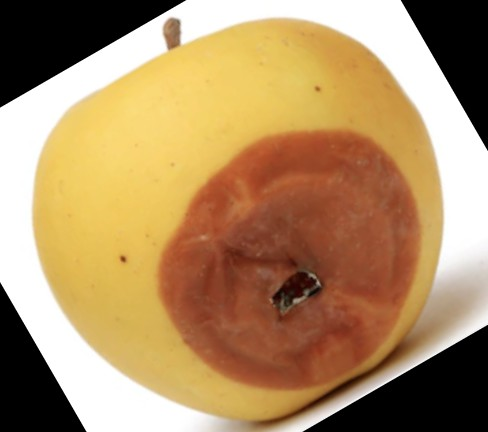rotten_apple: (34, 18, 444, 423)
